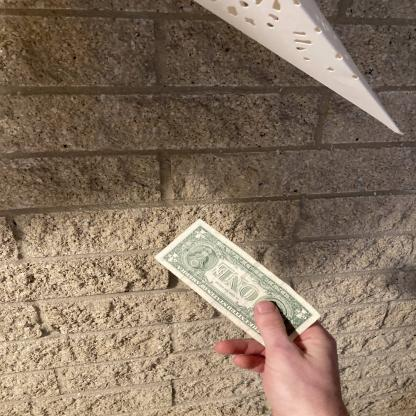one-back: (153, 218, 322, 356)
